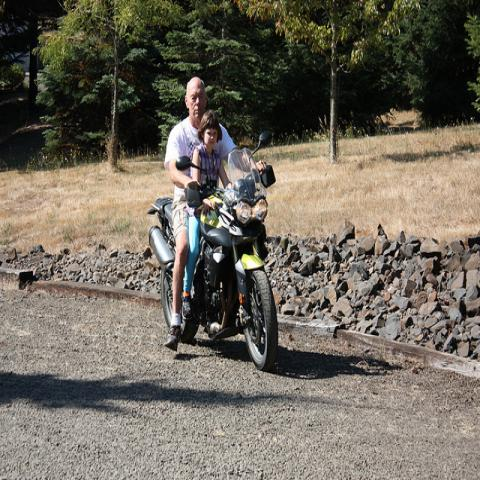motorcycle: (147, 132, 278, 371)
